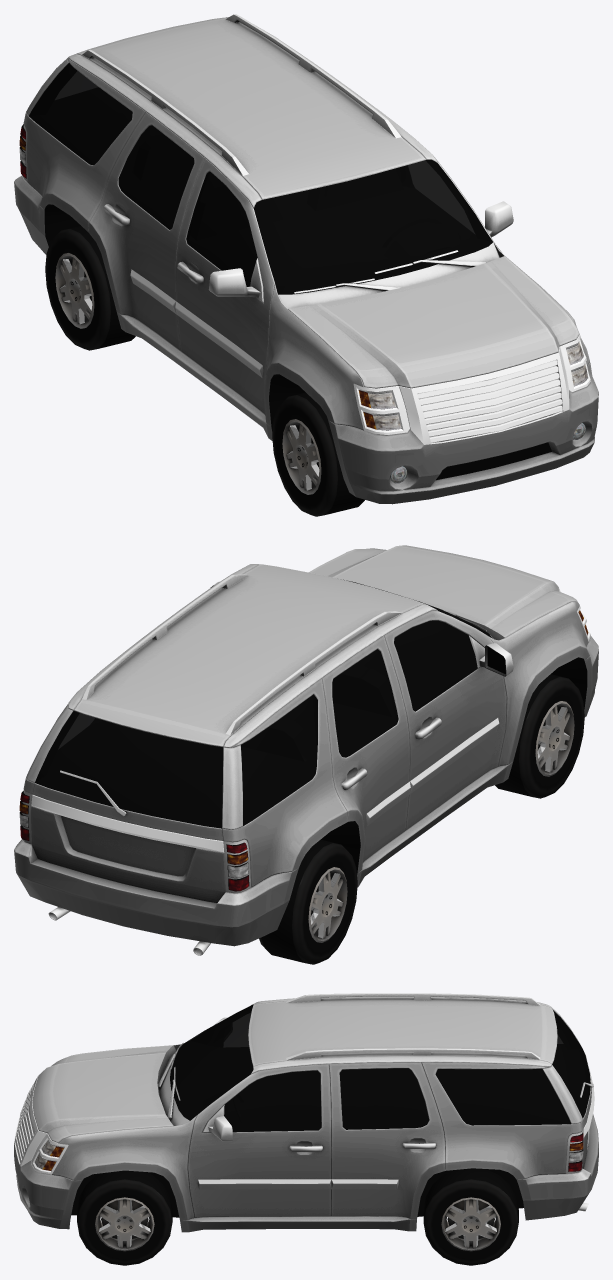
Rendered from suv.glb.
3 renders of one model, top to bottom at view 1: azimuth 30°, elevation 25°; view 2: azimuth 150°, elevation 25°; view 3: azimuth 270°, elevation 25°, orthographic. The views are drawn at different scales.
Visible parts, largest first — view 1: Body, Glass, Wheel4, Wheel2, Optics; view 2: Body, Glass, Wheel4, Wheel2, Optics; view 3: Body, Glass, Wheel3, Wheel1, Optics.
Part boxes in pixels (x1,y1,x2,y2): Body: (14,14,598,504); Glass: (29,63,492,294); Wheel4: (45,225,135,350); Wheel2: (272,392,364,516); Optics: (19,124,588,483); Body: (14,545,598,955); Glass: (35,579,492,828); Wheel4: (259,839,357,964); Wheel2: (495,674,584,798); Optics: (19,610,588,891); Body: (14,993,598,1232); Glass: (170,1005,590,1132); Wheel3: (423,1168,518,1265); Wheel1: (77,1170,172,1265); Optics: (34,1132,583,1171).
Size of the model in its own units: 2.07 by 1.74 by 4.62.
4 materials, 3 textured.
